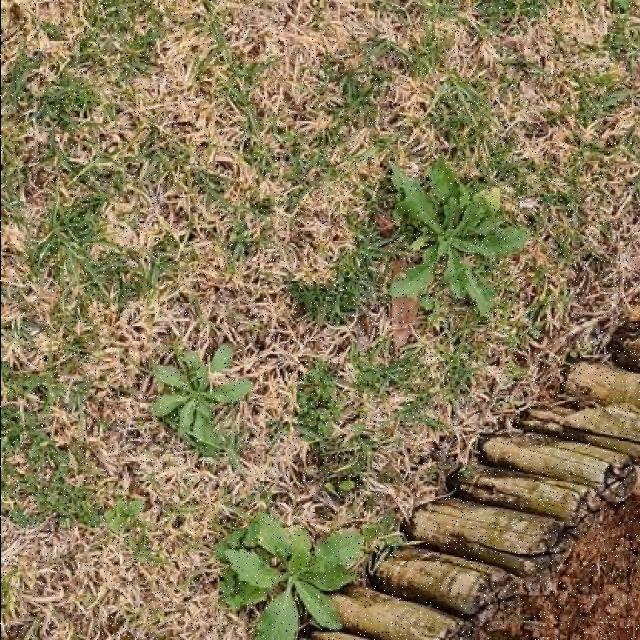weed: (388, 160, 526, 317), (218, 515, 362, 640), (150, 346, 251, 458)
